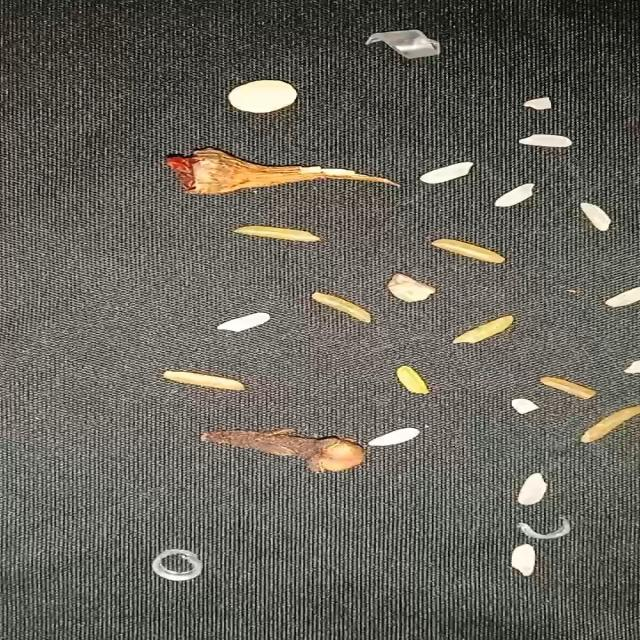Broken: (579, 404, 640, 443), (309, 292, 375, 323), (431, 238, 506, 264), (162, 371, 248, 392), (452, 315, 514, 344), (234, 225, 323, 244), (540, 376, 598, 400), (396, 365, 430, 395), (511, 398, 540, 415), (522, 97, 552, 110)
Full: (419, 162, 475, 184), (218, 312, 272, 333), (493, 183, 536, 208), (518, 472, 548, 506), (368, 428, 421, 446), (580, 202, 612, 231), (510, 544, 537, 577), (605, 286, 640, 308), (519, 134, 573, 147)
